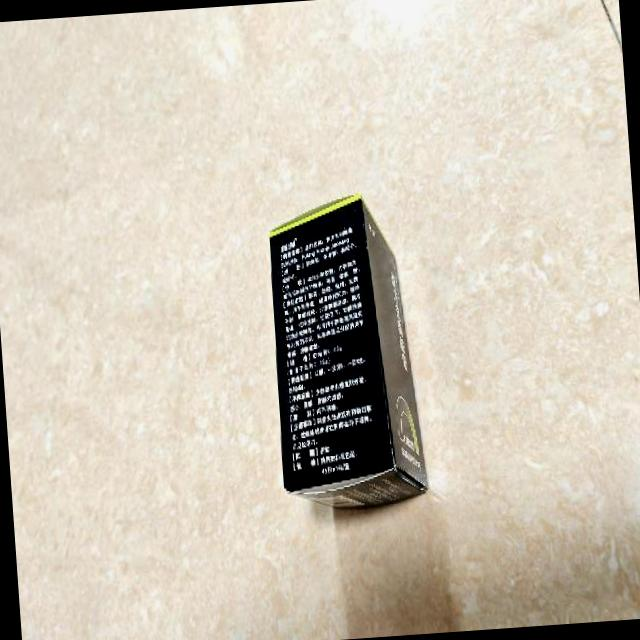box: (264, 190, 431, 515)
